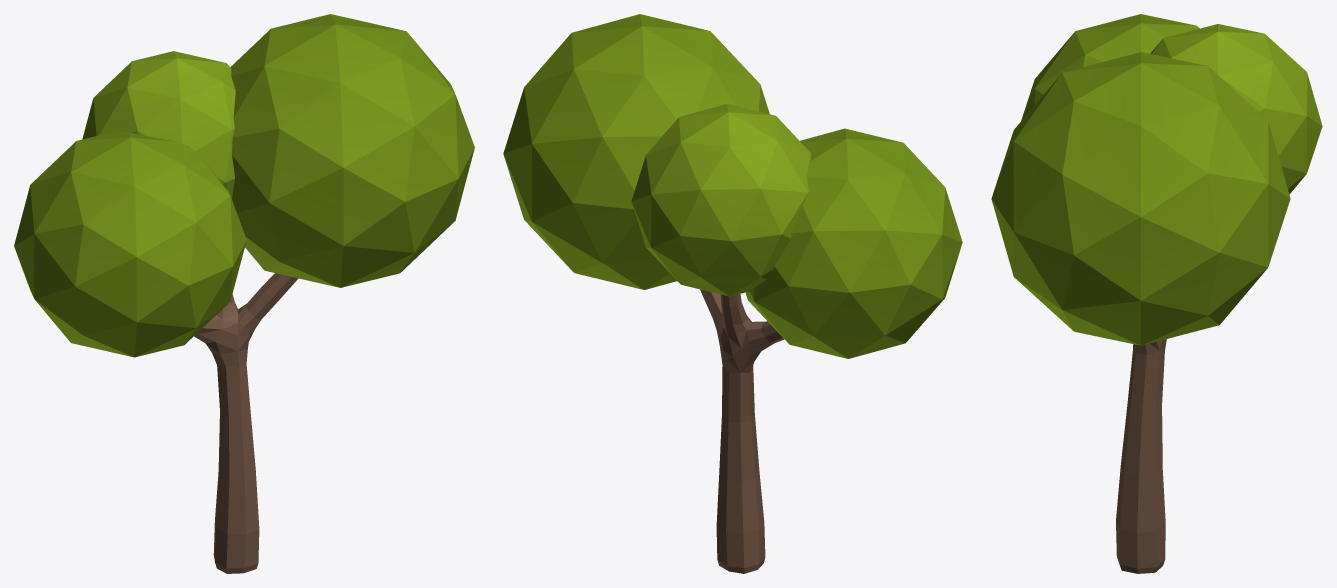
Rendered from tree01.glb.
3 views of the same model, side by side, from view 1: azimuth 30°, elevation 25°; view 2: azimuth 150°, elevation 25°; view 3: azimuth 270°, elevation 25° (orthographic). The views are drawn at different scales.
Visible parts, largest first — view 1: tree01; view 2: tree01; view 3: tree01.
Boxes of the visible parts, x1,y1,x2,y2 form: tree01: [14, 14, 474, 573]; tree01: [503, 14, 962, 573]; tree01: [991, 14, 1322, 573].
Size of the model in its own units: 4.06 by 4.82 by 2.61.
1 material, 1 textured.
